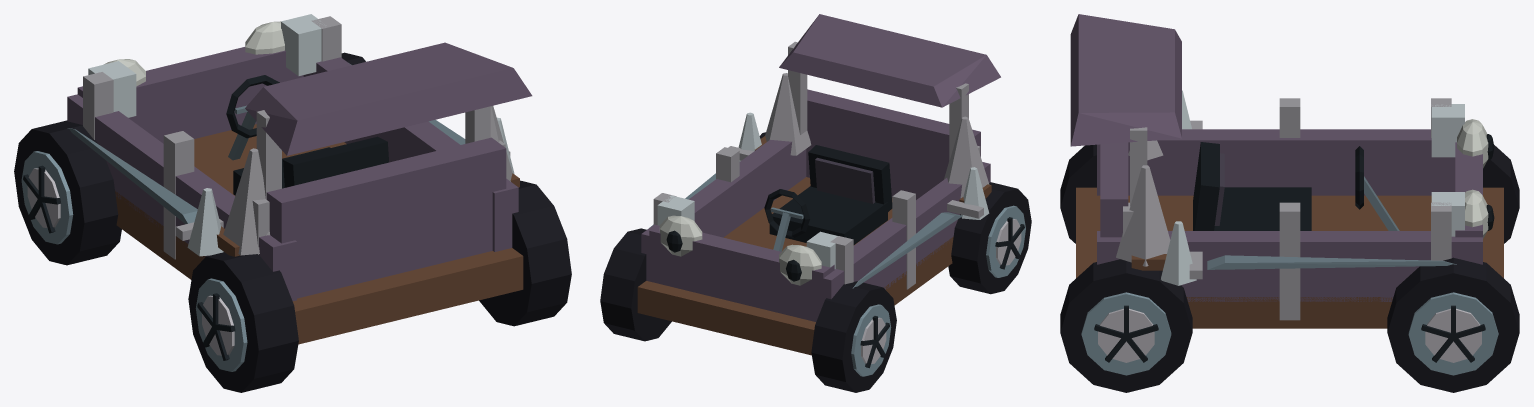
The model's file is kart.glb.
3 renders of one model, left to right at view 1: azimuth 30°, elevation 25°; view 2: azimuth 150°, elevation 25°; view 3: azimuth 270°, elevation 25°, orthographic. The views are drawn at different scales.
Parts seen in each view (by area): view 1: identity-carriage-carriage-timber-coach, wheel-rear-left, wheel-front-left, wheel-rear-right, identity-carriage-driver-cockpit, identity-carriage-motif-crystals, identity-carriage-motif-swords, identity-carriage-motif-eyes; view 2: identity-carriage-carriage-timber-coach, identity-carriage-driver-cockpit, wheel-front-left, wheel-rear-left, identity-carriage-motif-crystals, wheel-front-right, identity-carriage-motif-eyes, identity-carriage-motif-swords; view 3: identity-carriage-carriage-timber-coach, wheel-front-right, wheel-rear-right, identity-carriage-driver-cockpit, identity-carriage-motif-crystals, identity-carriage-motif-swords, identity-carriage-motif-eyes, wheel-rear-left, wheel-front-left.
Part boxes in pixels (box(x1,y1,x2,y2)): identity-carriage-carriage-timber-coach: box(67, 14, 532, 344); wheel-rear-left: box(188, 252, 298, 392); wheel-front-left: box(14, 120, 121, 265); wheel-rear-right: box(479, 180, 571, 326); identity-carriage-driver-cockpit: box(226, 75, 388, 195); identity-carriage-motif-crystals: box(187, 106, 514, 256); identity-carriage-motif-swords: box(67, 63, 519, 256); identity-carriage-motif-eyes: box(104, 21, 284, 86); identity-carriage-carriage-timber-coach: box(637, 14, 1000, 355); identity-carriage-driver-cockpit: box(764, 145, 892, 251); wheel-front-left: box(811, 281, 896, 392); wheel-rear-left: box(948, 182, 1031, 294); identity-carriage-motif-crystals: box(738, 73, 989, 219); wheel-front-right: box(600, 228, 671, 341); identity-carriage-motif-eyes: box(659, 215, 821, 285); identity-carriage-motif-swords: box(647, 136, 991, 288); identity-carriage-carriage-timber-coach: box(1070, 14, 1503, 328); wheel-front-right: box(1387, 257, 1519, 392); wheel-rear-right: box(1060, 259, 1192, 392); identity-carriage-driver-cockpit: box(1193, 142, 1399, 230); identity-carriage-motif-crystals: box(1116, 90, 1196, 285); identity-carriage-motif-swords: box(1131, 120, 1456, 279); identity-carriage-motif-eyes: box(1457, 119, 1494, 238); wheel-rear-left: box(1060, 144, 1096, 243); wheel-front-left: box(1483, 145, 1519, 243).
Bounding box in the file's own units: 2.07 × 1.63 × 2.64.
